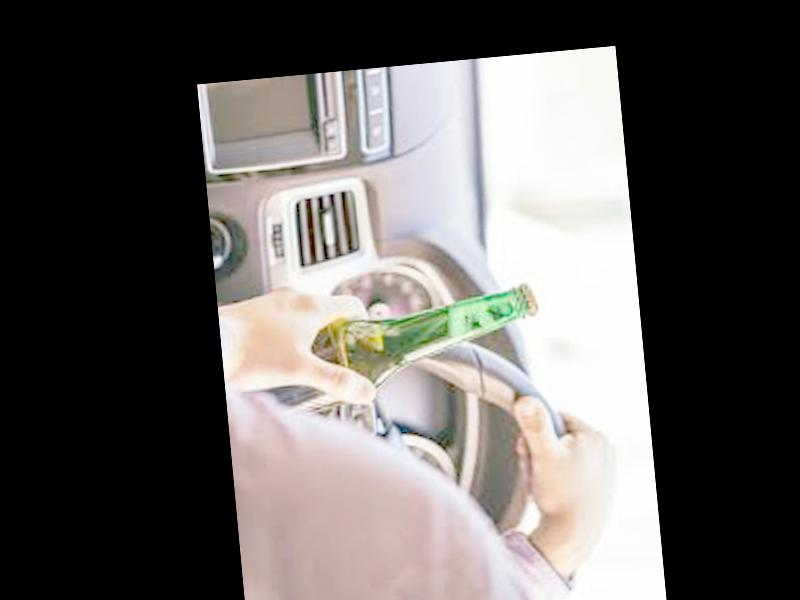Beer: (231, 280, 548, 424)
